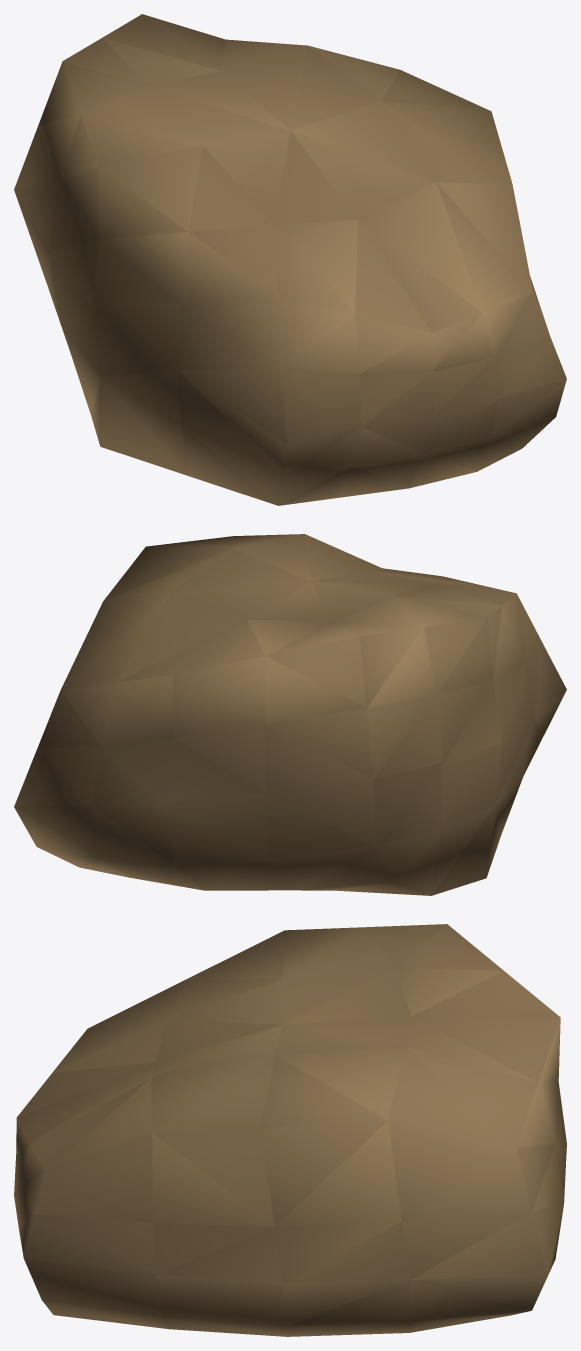
File: SandChunk.005.glb
3 renders of one model, top to bottom at view 1: azimuth 30°, elevation 25°; view 2: azimuth 150°, elevation 25°; view 3: azimuth 270°, elevation 25°, orthographic. The views are drawn at different scales.
Visible parts, largest first — view 1: SandChunk.005; view 2: SandChunk.005; view 3: SandChunk.005.
Part boxes in pixels (left/top/right/bottom): SandChunk.005: left=14, top=14, right=566, bottom=505; SandChunk.005: left=14, top=534, right=566, bottom=895; SandChunk.005: left=14, top=924, right=566, bottom=1336.
Bounding box in the file's own units: 5.92 × 4.34 × 7.47.
